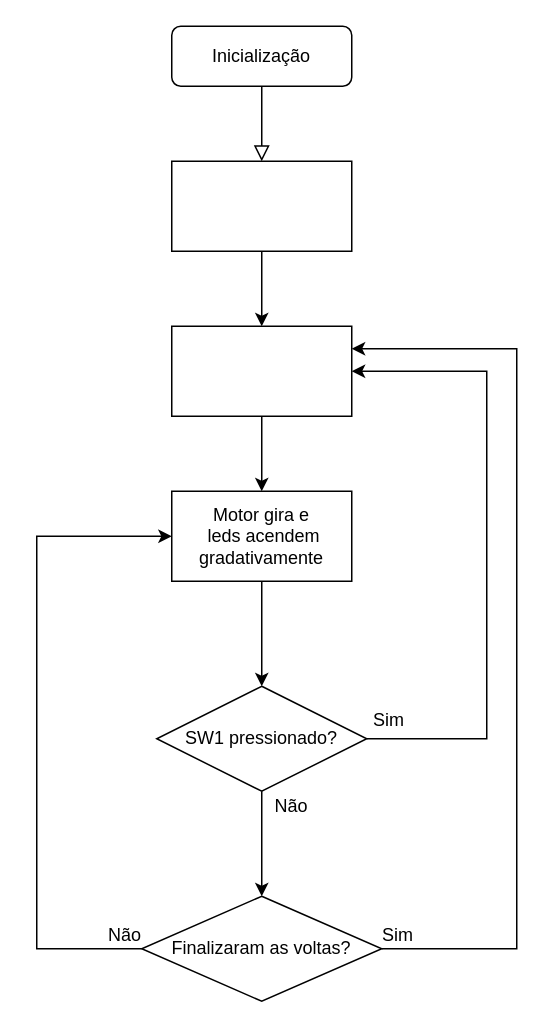
Some shapes in this 555 by 1028 pixel diagram are drawn without their labels. The centre of each missing label's shape, as x and y in pixels:
"Aguardo ´*´" goes at point 261,205.
"Recebo velocidade, sentido e quantidade de voltas" goes at point 261,370.
